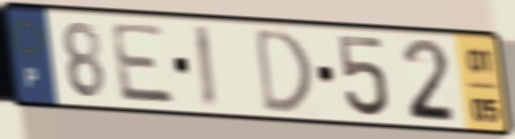2: (398, 36, 458, 127)
5: (334, 33, 393, 120)
8: (60, 19, 107, 100)
D: (252, 25, 314, 116)
E: (107, 20, 179, 107)
I: (189, 22, 221, 112)
